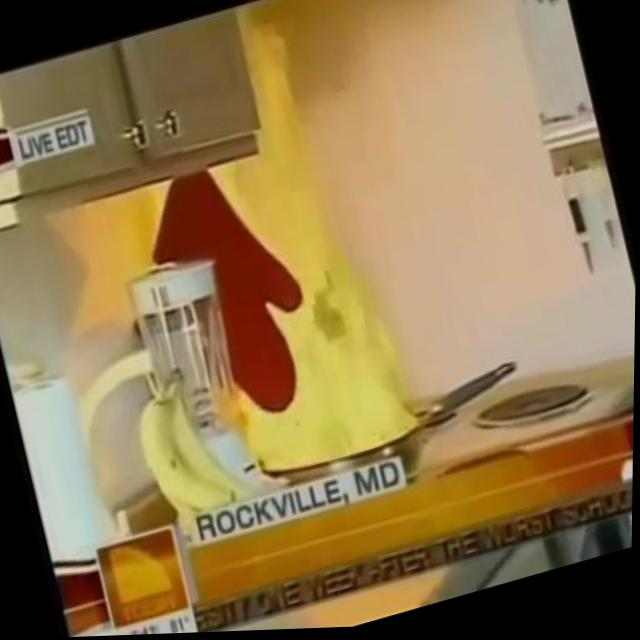fire: (144, 0, 436, 492)
